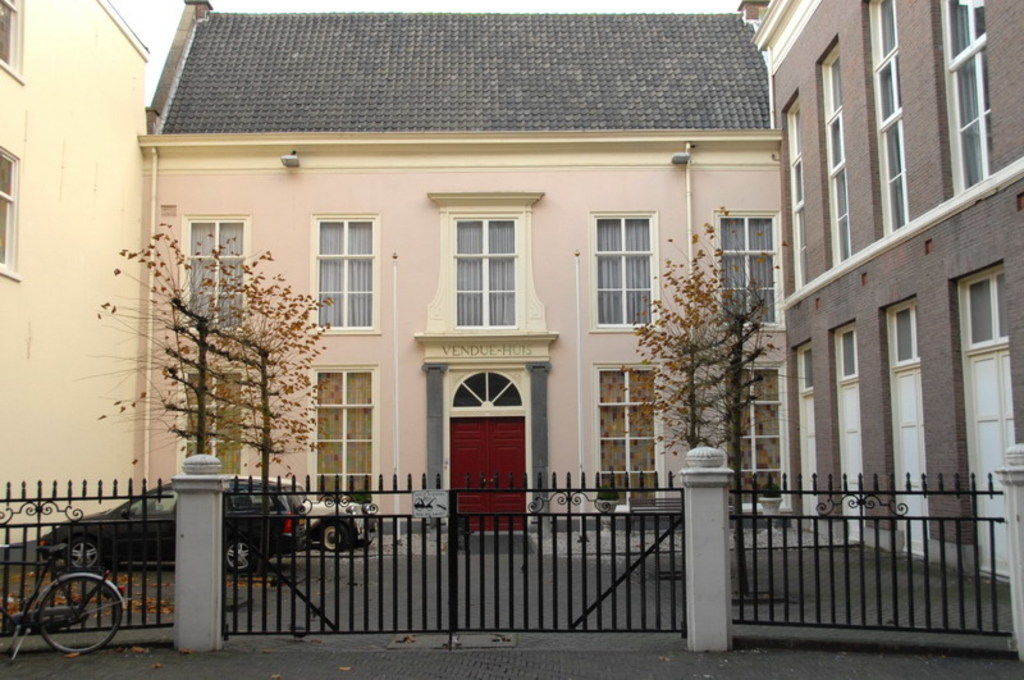Window: (448, 181, 534, 334), (594, 359, 678, 501), (812, 27, 858, 275), (861, 0, 908, 242), (936, 0, 987, 200), (723, 360, 787, 514), (585, 210, 660, 336), (306, 360, 374, 498), (173, 210, 246, 338), (713, 206, 785, 329), (166, 356, 239, 475), (312, 207, 380, 330), (777, 83, 800, 291), (0, 149, 19, 279), (0, 0, 28, 86)
